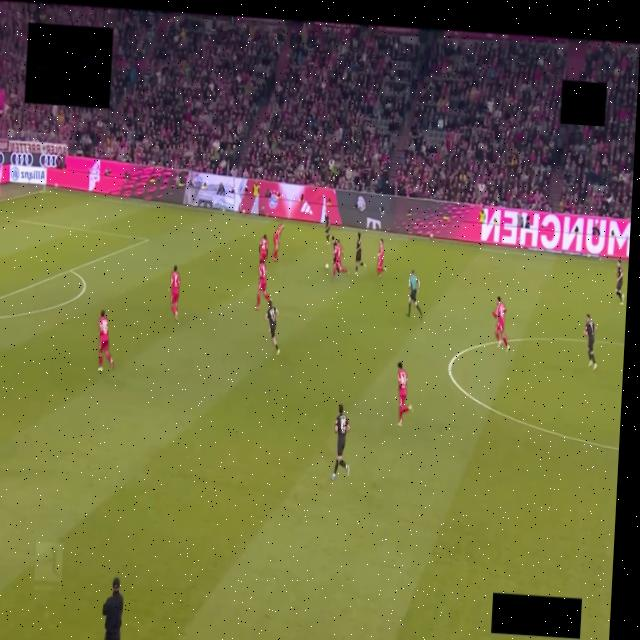ball: (324, 264, 328, 270)
player: (330, 404, 349, 479), (97, 311, 113, 371), (492, 296, 509, 352), (397, 363, 411, 426), (583, 314, 596, 370), (266, 300, 279, 355), (255, 260, 269, 309), (168, 265, 179, 320), (333, 239, 347, 277), (272, 224, 284, 262), (355, 233, 364, 275), (615, 260, 623, 304), (376, 239, 385, 277), (259, 234, 267, 262), (331, 238, 337, 275), (324, 212, 330, 242)
referee: (406, 270, 421, 319)
